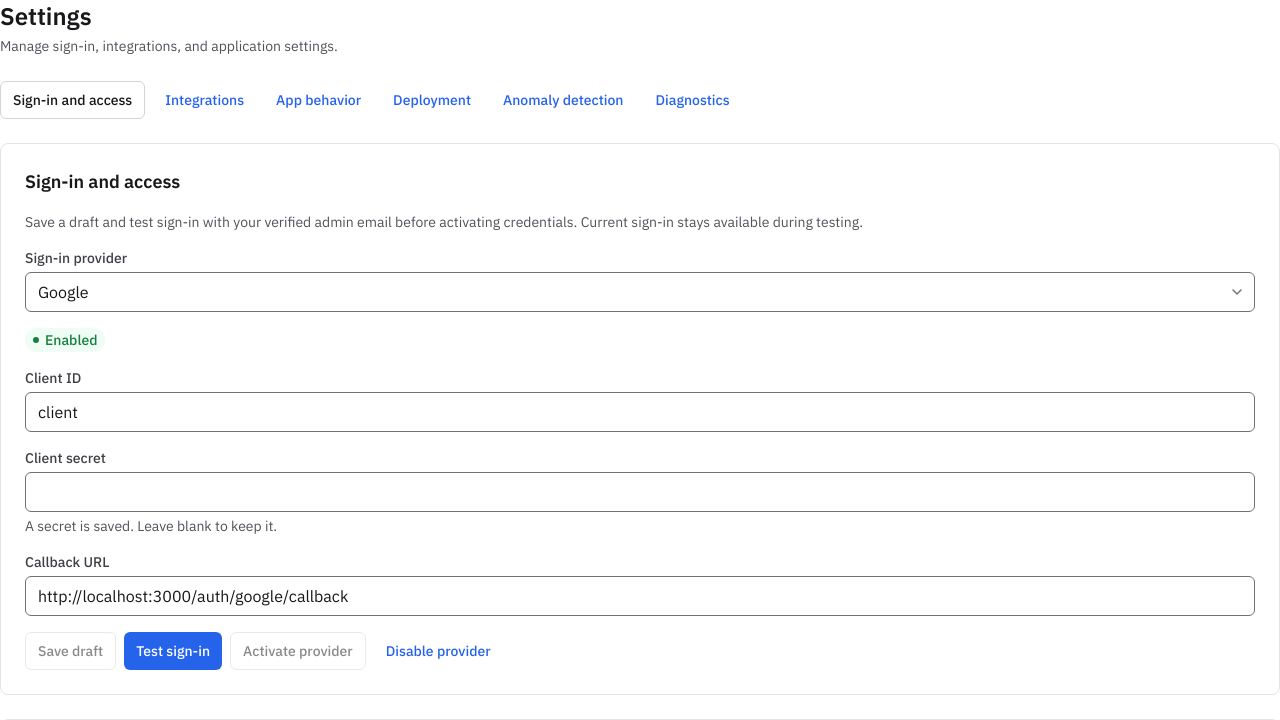
Settings and installation › keeps secrets blank and requires a saved tested draft before activation
Expected: the password field labelled "Client secret" is empty, [25, 472, 1255, 512]
Expected: the button "Activate provider" is disabled, [230, 632, 366, 670]
Replace the text in the field labelled "Client ID" with "replacement": coordinates (640, 412) [25, 392, 1255, 432]
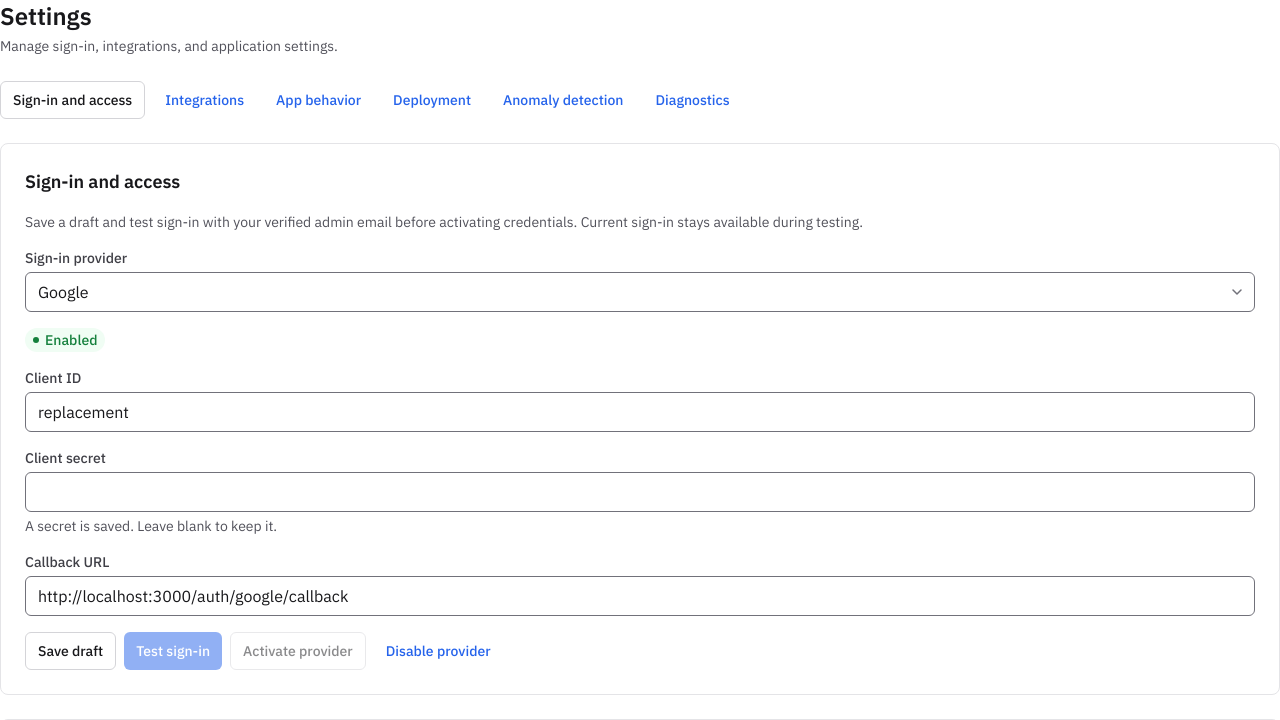
Now the button "Test sign-in" is disabled, box [124, 632, 222, 670]
Click the button "Save draft": coordinates (71, 651) [25, 632, 116, 670]
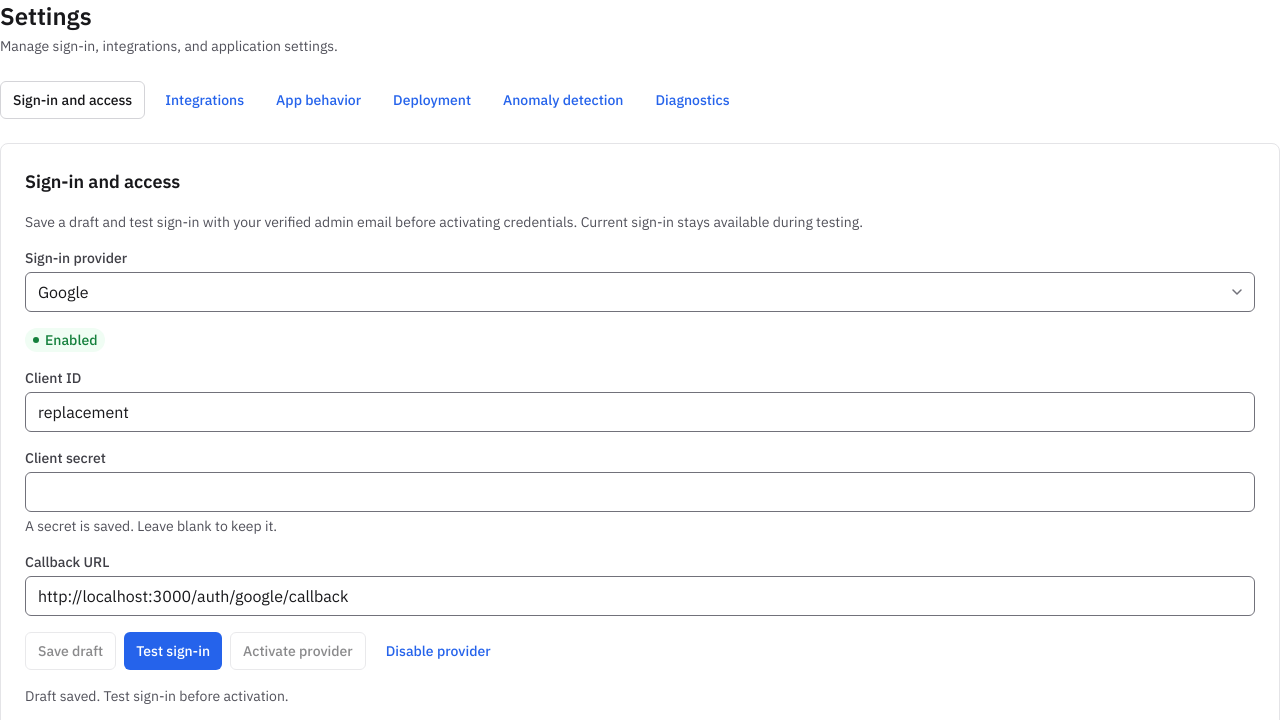
Now the text "Draft saved. Test sign-in before activation." is shown, box [25, 687, 289, 705]
Now the button "Test sign-in" is enabled, box [124, 632, 222, 670]
